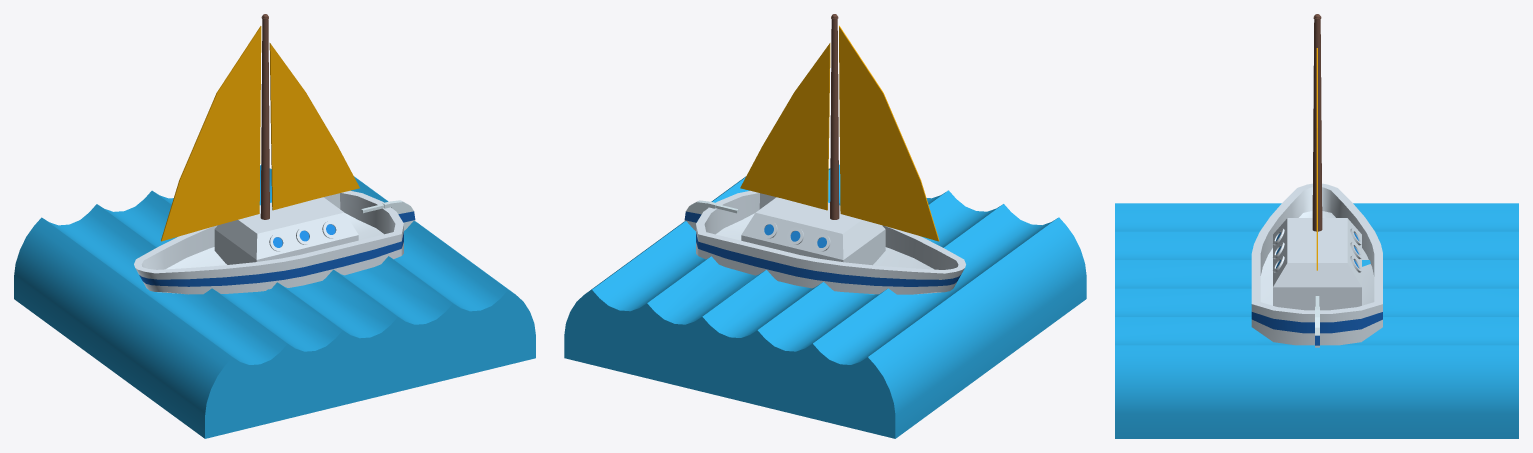
Rendered from sailboat.glb.
3 renders of one model, left to right at view 1: azimuth 30°, elevation 25°; view 2: azimuth 150°, elevation 25°; view 3: azimuth 270°, elevation 25°, orthographic. The views are drawn at different scales.
Visible parts, largest first — view 1: Cube.764; view 2: Cube.764; view 3: Cube.764.
Boxes of the visible parts, <box> form: Cube.764: <box>14,14,535,438</box>; Cube.764: <box>564,14,1086,438</box>; Cube.764: <box>1115,14,1518,438</box>.
Bounding box in the file's own units: 2 × 1.83 × 2.
1 material, 1 textured.
